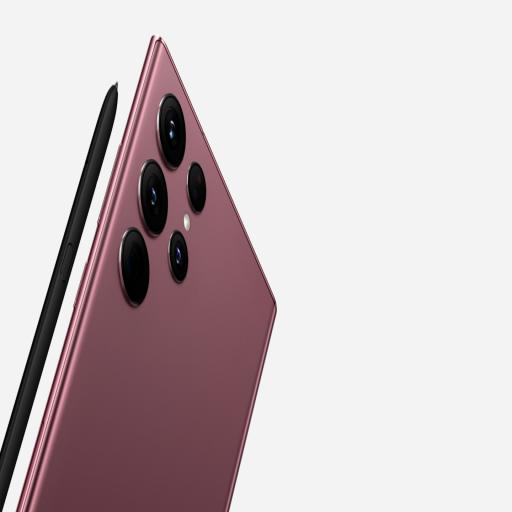phone: (18, 26, 280, 511)
